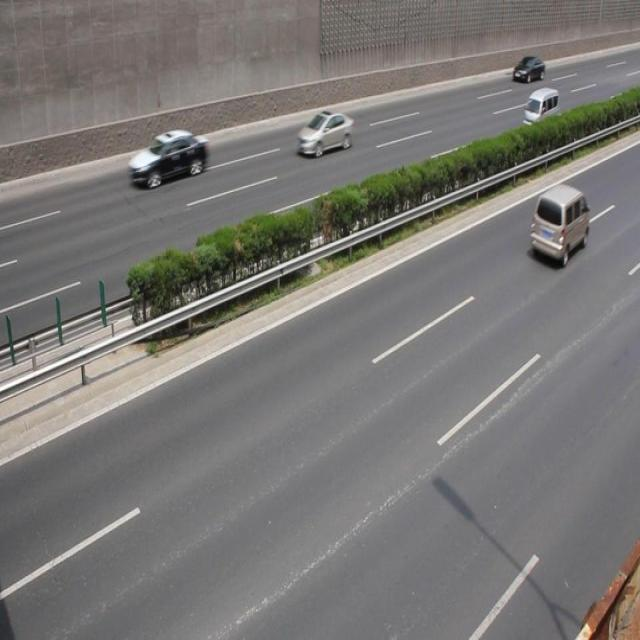car: (127, 130, 208, 190), (298, 110, 353, 157), (511, 53, 542, 83)
truck: (528, 187, 589, 265), (520, 88, 556, 132)
